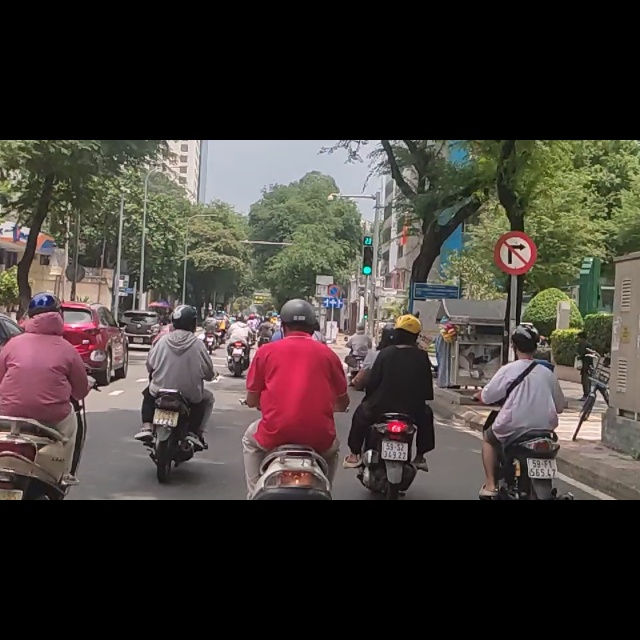bien_chi_dan: (491, 162, 535, 237), (327, 257, 341, 280)
